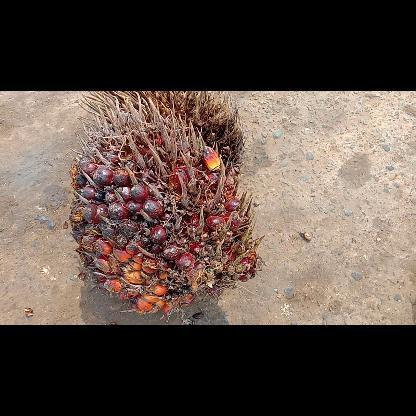Janjang kosong: (78, 91, 246, 165)
TBS masak: (69, 91, 264, 315)
